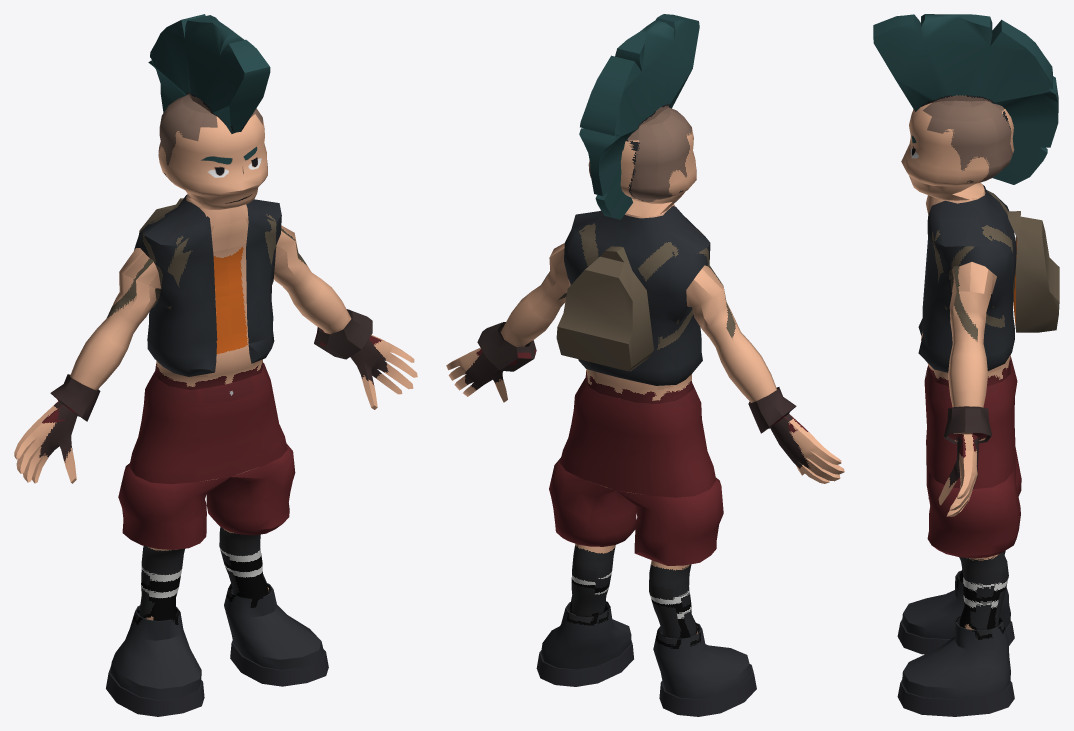
File: punk.glb
3 renders of one model, left to right at view 1: azimuth 30°, elevation 25°; view 2: azimuth 150°, elevation 25°; view 3: azimuth 270°, elevation 25°, orthographic.
Parts seen in each view (by area): view 1: Body, Vest, Cargo_shorts, Hair_Plate_0, Shoe_R, Cargo_shorts_R, Shoe_L, Cargo_shorts_L, Shoe_soles_R, Shoe_soles_L, Spiked_wrist_cuff_L, Glove_R; view 2: Body, Vest, Cargo_shorts, Hair_Plate_0, Backpack_body_0, Cargo_shorts_R, Cargo_shorts_L, Shoe_R, Shoe_L, Shoe_soles_R, Shoe_soles_L, Spiked_wrist_cuff_L (+1 smaller); view 3: Body, Hair_Plate_0, Vest, Shoe_L, Cargo_shorts, Cargo_shorts_L, Backpack_body_0, Shoe_R, Shoe_soles_L, Spiked_wrist_cuff_L, Shoe_soles_R.
Boxes of the visible parts, x1,y1,x2,y2 form: Body: (14, 95, 417, 620); Vest: (134, 194, 281, 376); Cargo_shorts: (129, 362, 287, 484); Hair_Plate_0: (148, 14, 270, 133); Shoe_R: (110, 605, 201, 699); Cargo_shorts_R: (118, 463, 230, 549); Shoe_L: (224, 583, 323, 669); Cargo_shorts_L: (206, 443, 295, 535); Shoe_soles_R: (106, 665, 204, 716); Shoe_soles_L: (230, 640, 328, 686); Spiked_wrist_cuff_L: (314, 310, 372, 359); Glove_R: (50, 374, 100, 421); Body: (446, 107, 844, 638); Vest: (564, 206, 710, 385); Cargo_shorts: (560, 378, 716, 497); Hair_Plate_0: (579, 14, 699, 219); Backpack_body_0: (556, 246, 653, 371); Cargo_shorts_R: (616, 477, 723, 565); Cargo_shorts_L: (549, 457, 636, 546); Shoe_R: (653, 623, 751, 699); Shoe_L: (541, 601, 631, 669); Shoe_soles_R: (659, 664, 756, 716); Shoe_soles_L: (536, 640, 633, 686); Spiked_wrist_cuff_L: (477, 322, 536, 371); Body: (901, 100, 1014, 630); Hair_Plate_0: (873, 14, 1058, 184); Vest: (918, 185, 1016, 372); Shoe_L: (902, 616, 1010, 699); Cargo_shorts: (924, 356, 1017, 489); Cargo_shorts_L: (926, 457, 1020, 558); Backpack_body_0: (1007, 211, 1059, 332); Shoe_R: (902, 570, 1010, 639); Shoe_soles_L: (897, 679, 1014, 716); Spiked_wrist_cuff_L: (943, 408, 991, 443); Shoe_soles_R: (897, 619, 1014, 654).
Bounding box in the file's own units: 1.02 × 1.6 × 0.4127.
10 materials, 10 textured.
